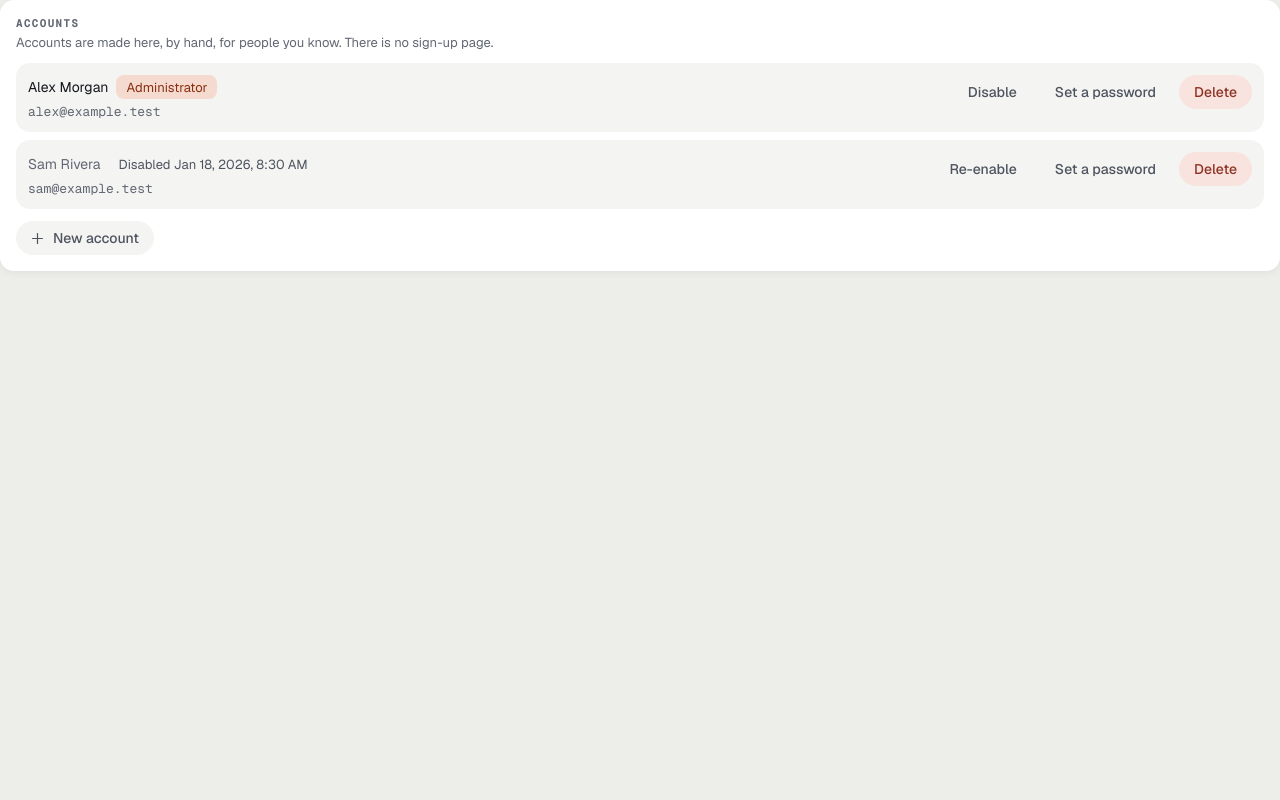
Scenario: setting a password for somebody who is locked out (UI-37) › says the value is shown once, because nothing can show it again
Click the button with aria-label "set a password for alex" at (1105, 92), box [1040, 75, 1171, 109]
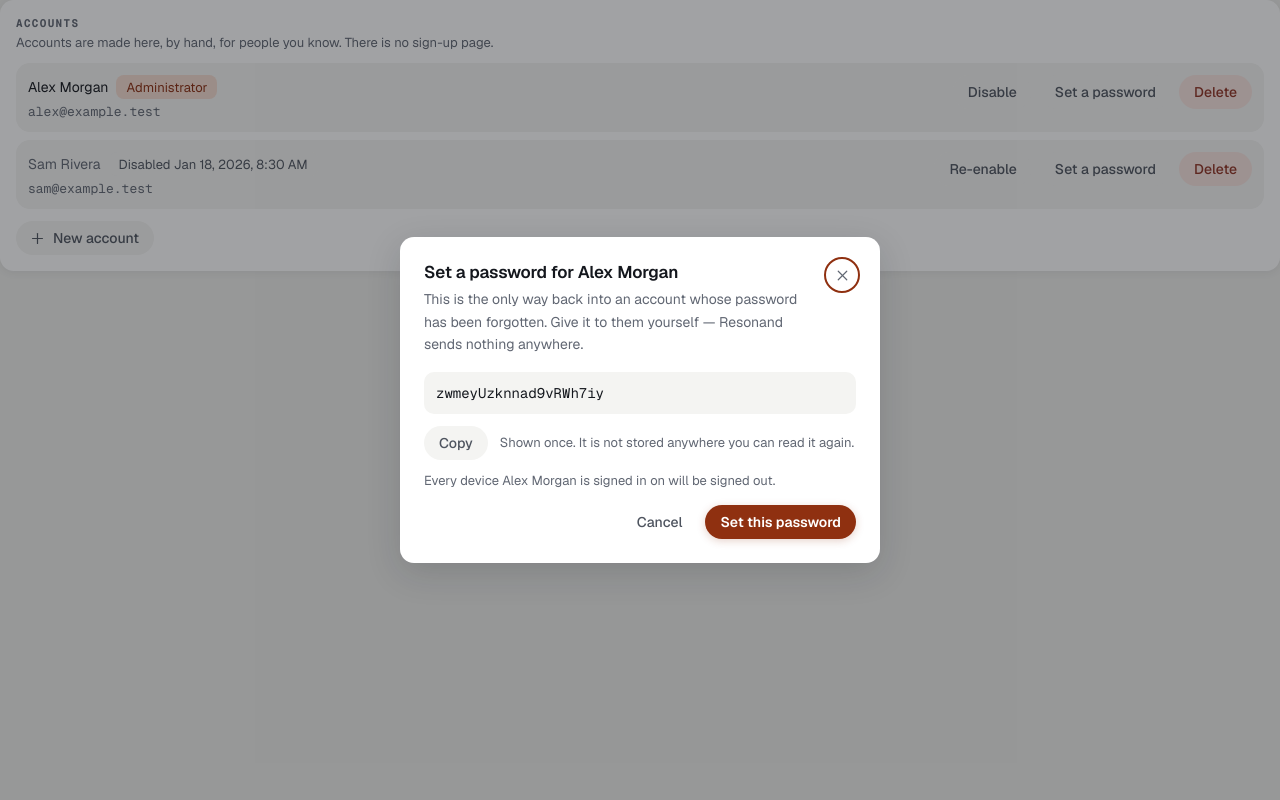
Expected: the text "Shown once. It is not stored anywhere you can read it again." is shown, [500, 434, 854, 451]
